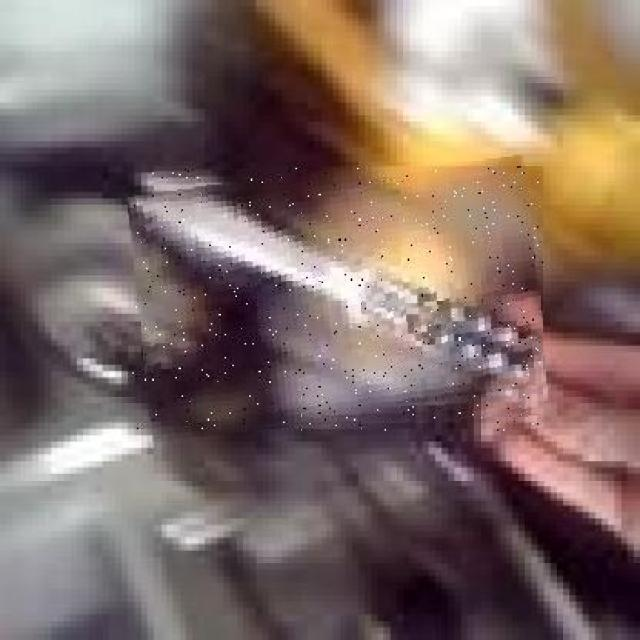knife: (132, 166, 543, 431)
